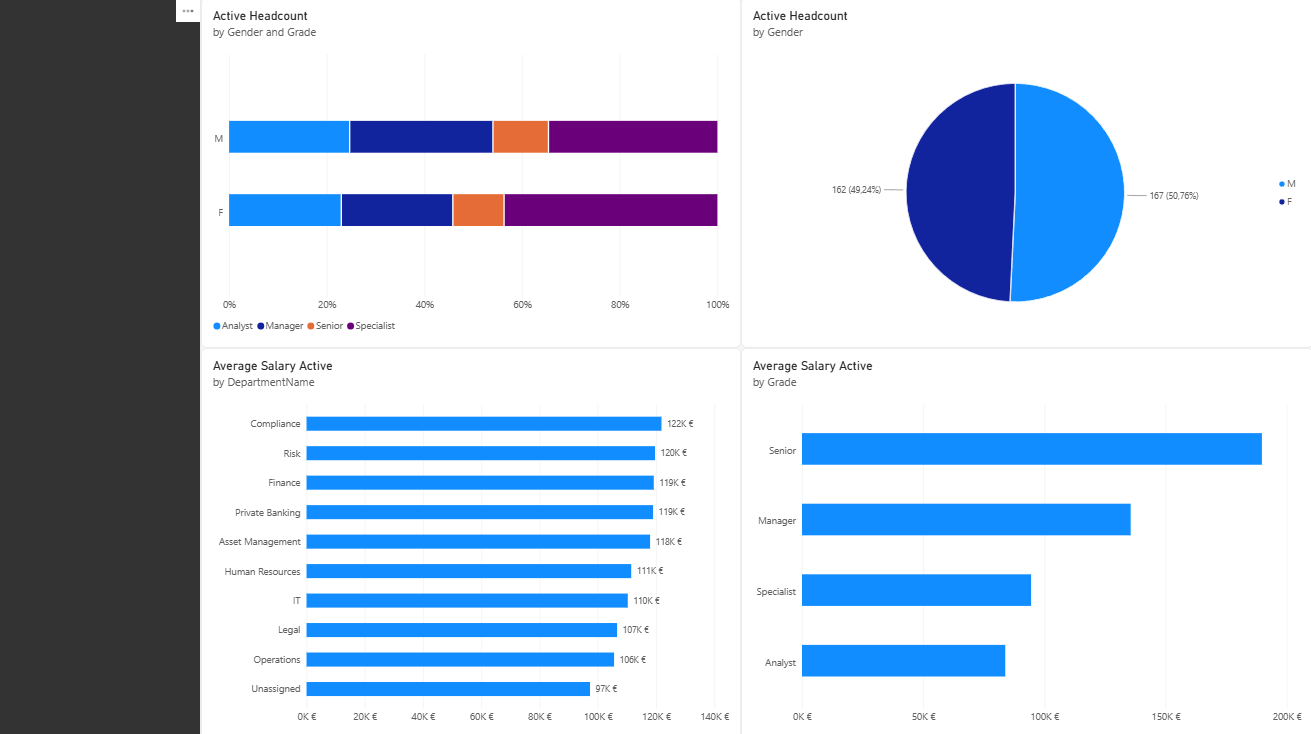

The dashboard page shown, as its layout file describes it:
{"tool":"powerbi","page":{"name":"Diversity & Pay","canvas":[1920,1080],"ordinal":2},"visuals":[{"type":"shape","box":[0,0,296.3,1079.8],"z":0},{"type":"hundredPercentStackedBarChart","fields":{"Category":["Employees.Gender"],"Series":["Employees.Grade"],"Y":["Employees.Active Headcount"]},"box":[296.3,0,788.4,509.9],"z":1000},{"type":"clusteredBarChart","fields":{"Category":["Employees.Grade"],"Y":["Employees.Average Salary Active"]},"box":[1084.7,509.9,835.3,569.8],"z":2000},{"type":"barChart","fields":{"Category":["Employees.DepartmentName"],"Y":["Employees.Average Salary Active"]},"box":[296,510,788,570],"z":3000},{"type":"pieChart","fields":{"Category":["Employees.Gender"],"Y":["Employees.Active Headcount"]},"box":[1084.7,0,835.3,509.9],"z":4000}]}

Visuals, with their boxes on the page's 1920x1080 design canvas (x1, y1, x2, y2). These are canvas units, not pixel positions in the 1311x734 screenshot, which may show the page scaled, cropped or inside an application window:
shape: 0/0/296/1080
hundredPercentStackedBarChart - Employees.Gender x Employees.Grade: 296/0/1085/510
clusteredBarChart - Employees.Grade x Employees.Average Salary Active: 1085/510/1920/1080
barChart - Employees.DepartmentName x Employees.Average Salary Active: 296/510/1084/1080
pieChart - Employees.Gender x Employees.Active Headcount: 1085/0/1920/510
